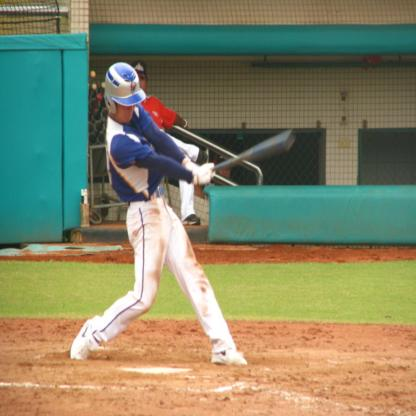Helmet: (100, 61, 142, 119)
